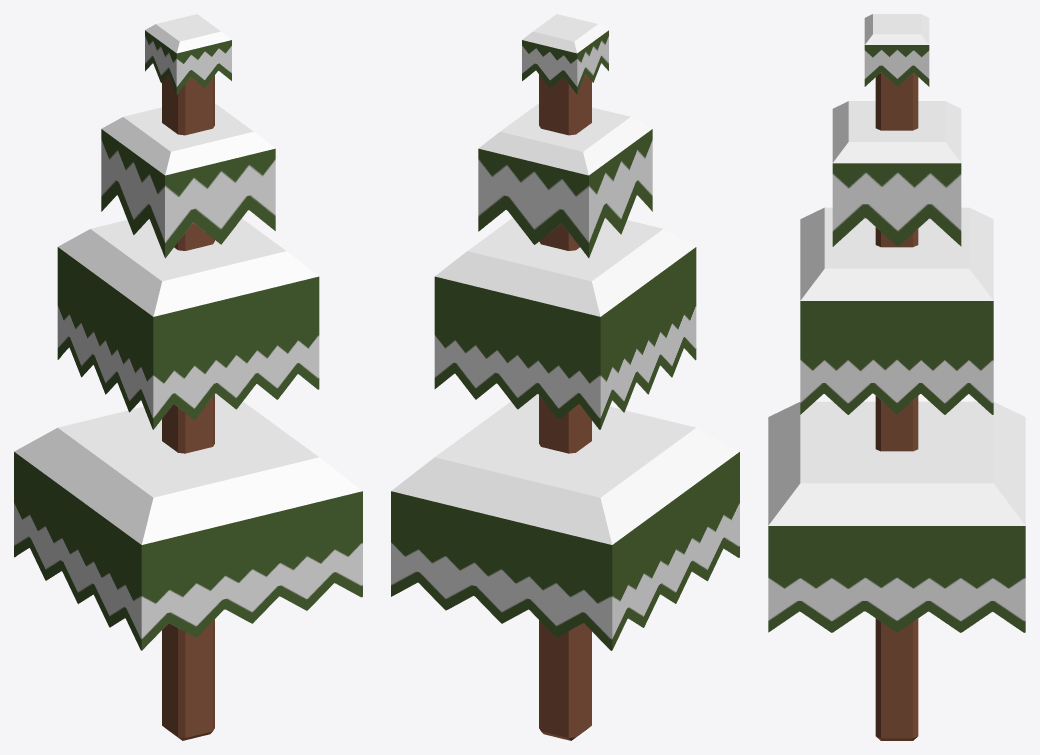
Rendered from Tree 4.fbx.
3 views of the same model, side by side, from view 1: azimuth 30°, elevation 25°; view 2: azimuth 150°, elevation 25°; view 3: azimuth 270°, elevation 25° (orthographic).
Visible parts, largest first — view 1: Tree_Crown_4, Tree_Crown_3, Tree_Crown_2, Trunk, Tree_Crown_1; view 2: Tree_Crown_4, Tree_Crown_3, Tree_Crown_2, Trunk, Tree_Crown_1; view 3: Tree_Crown_4, Tree_Crown_3, Tree_Crown_2, Trunk, Tree_Crown_1.
Part boxes in pixels (<box>): Tree_Crown_4: <box>14,393,362,650</box>; Tree_Crown_3: <box>57,218,319,429</box>; Tree_Crown_2: <box>101,103,275,258</box>; Trunk: <box>162,75,214,740</box>; Tree_Crown_1: <box>145,14,231,94</box>; Tree_Crown_4: <box>391,394,739,650</box>; Tree_Crown_3: <box>434,218,696,429</box>; Tree_Crown_2: <box>478,103,652,257</box>; Trunk: <box>539,74,591,740</box>; Tree_Crown_1: <box>522,14,608,94</box>; Tree_Crown_4: <box>768,401,1025,632</box>; Tree_Crown_3: <box>800,207,993,414</box>; Tree_Crown_2: <box>832,101,961,246</box>; Trunk: <box>875,72,918,740</box>; Tree_Crown_1: <box>864,14,929,86</box>.
Size of the model in its own units: 1.2 by 3.65 by 1.2.
